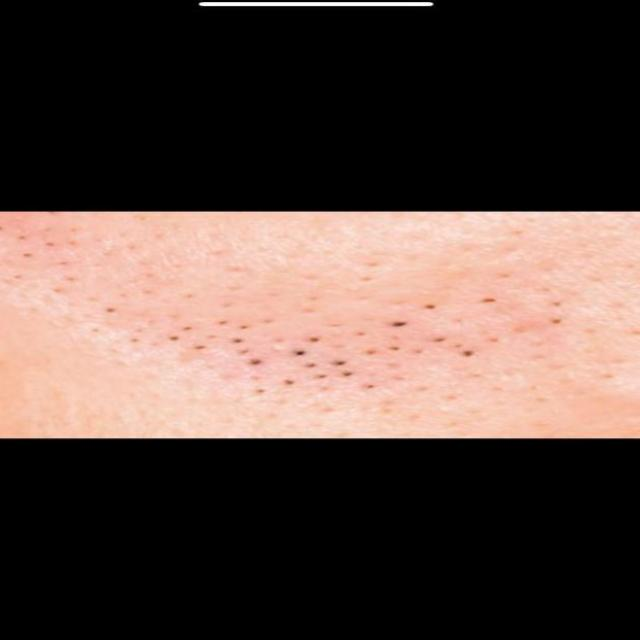blackhead: (135, 281, 575, 416)
